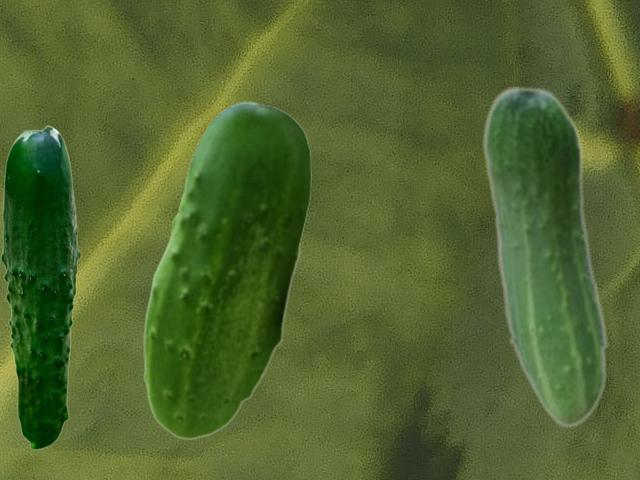cucumber: (143, 101, 310, 439), (482, 84, 608, 427), (0, 125, 80, 449)
